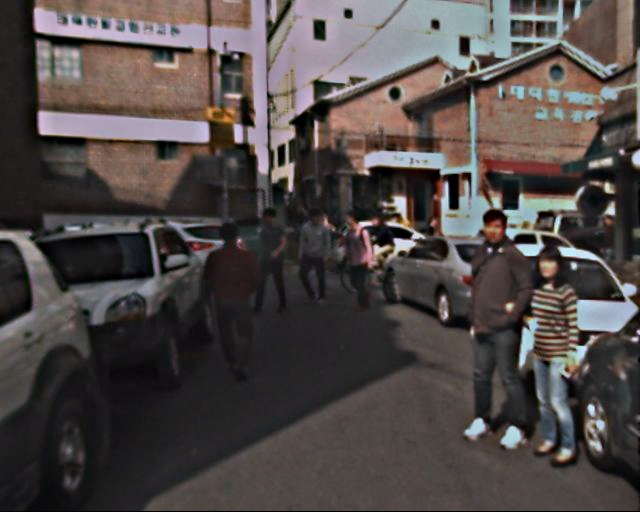person: (442, 210, 539, 447), (504, 245, 592, 459), (199, 222, 266, 385), (246, 206, 291, 316), (333, 210, 376, 315), (291, 209, 332, 309), (363, 211, 394, 286), (594, 214, 624, 288)
